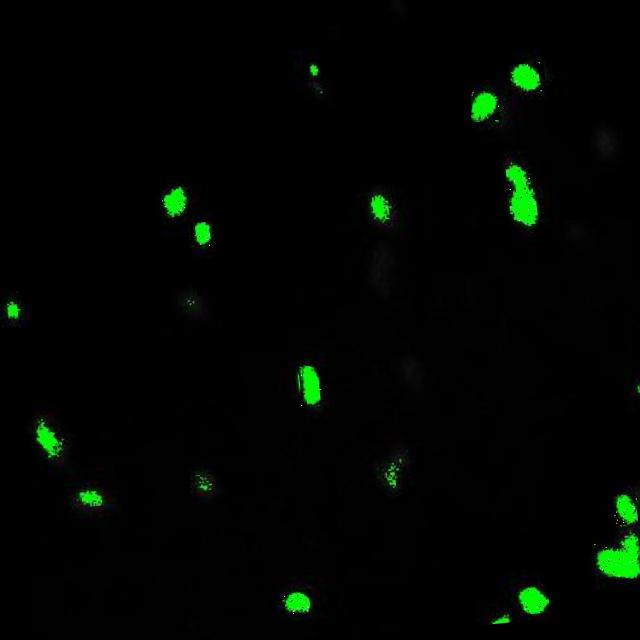Cell: (590, 538, 640, 580), (506, 166, 538, 226), (508, 62, 546, 94), (295, 364, 322, 408), (468, 89, 500, 123), (31, 422, 58, 458), (610, 492, 638, 526), (158, 188, 186, 218), (282, 588, 312, 616), (519, 588, 546, 616), (188, 221, 214, 247)
